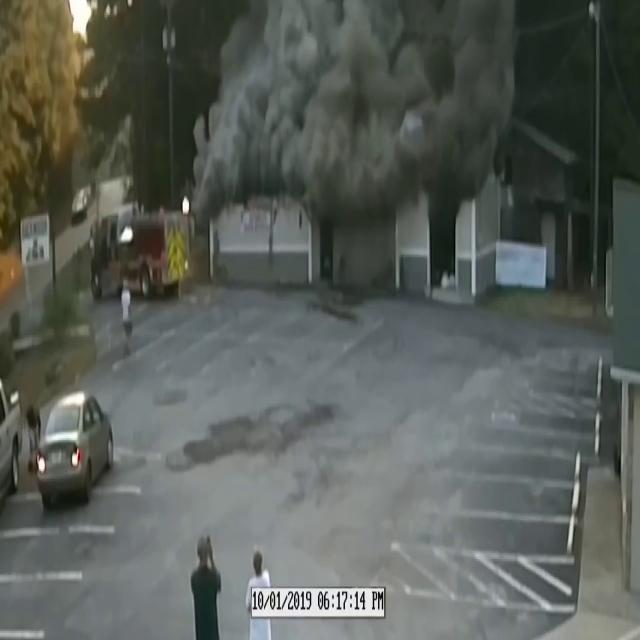Smoke: (192, 0, 530, 236)
